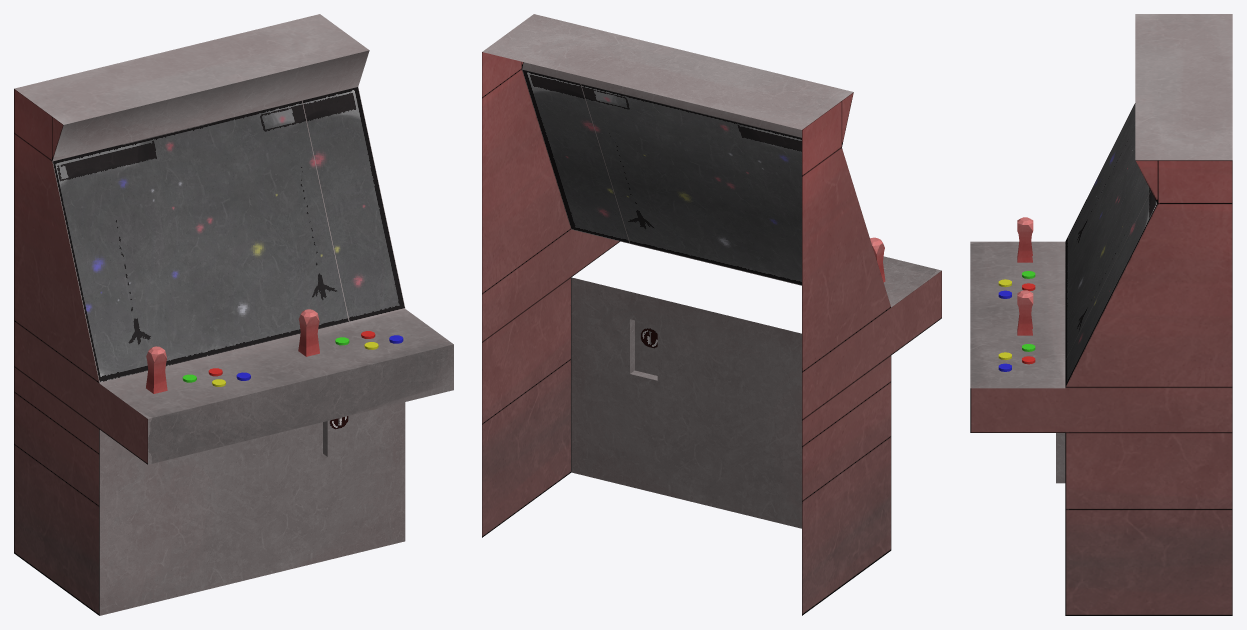
The model's file is 봄_오락기.FBX.
The picture shows the model from 3 angles, left to right: view 1: azimuth 30°, elevation 25°; view 2: azimuth 150°, elevation 25°; view 3: azimuth 270°, elevation 25°; orthographic projection. The views are drawn at different scales.
Parts seen in each view (by area): view 1: Box001, Box002, Box003; view 2: Box001; view 3: Box001, Box002, Box003.
Boxes of the visible parts, x1,y1,x2,y2 form: Box001: [14, 14, 453, 615]; Box002: [146, 346, 167, 393]; Box003: [298, 309, 319, 356]; Box001: [482, 14, 941, 615]; Box001: [970, 14, 1232, 615]; Box002: [1017, 217, 1033, 262]; Box003: [1017, 290, 1033, 335].
Bounding box in the file's own units: 40.13 × 58.25 × 30.42.
Materials: 1 (1 with a texture image).
